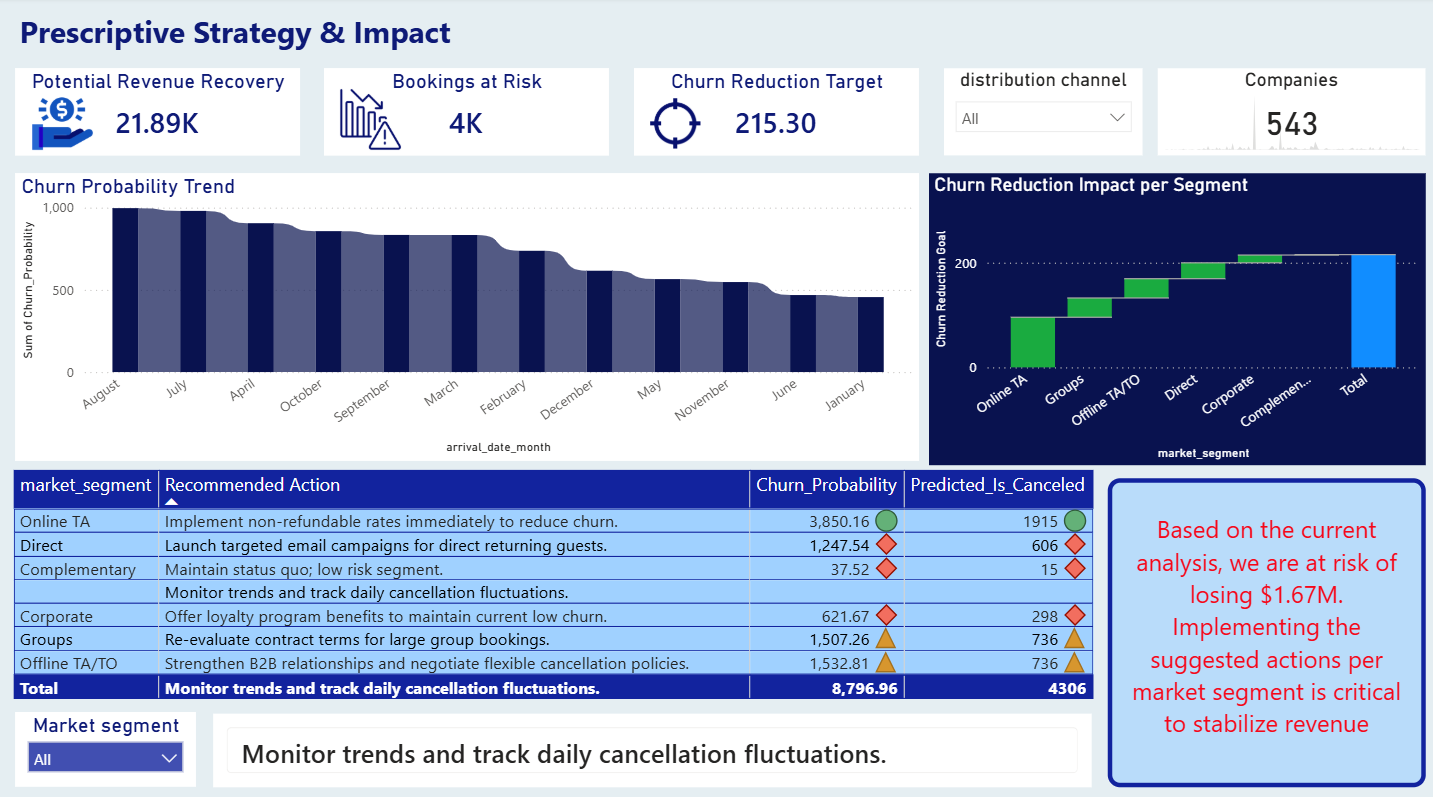

The dashboard page shown, as its layout file describes it:
{"tool":"powerbi","page":{"name":"Prescriptive Actions","canvas":[1280,720],"ordinal":2},"visuals":[{"type":"cardVisual","fields":{"Data":["cleaned_hotel_bookings.Recommended Action"]},"box":[186,633.1,792.4,75.2],"z":0},{"type":"slicer","title":"Market segment","fields":{"Values":["cleaned_hotel_bookings.market_segment"]},"box":[14,636.9,160.5,66.2],"z":1000},{"type":"textbox","box":[13.9,7.6,606,55.6],"z":2000},{"type":"cardVisual","title":"Bookings at Risk","fields":{"Data":["cleaned_hotel_bookings.Actionable Bookings"]},"box":[289.2,63.7,253.5,77.7],"z":3000},{"type":"cardVisual","title":"Churn Reduction Target","fields":{"Data":["cleaned_hotel_bookings.Churn Reduction Goal"]},"box":[565.6,63.7,253.5,77.7],"z":4000},{"type":"cardVisual","title":"Potential Revenue Recovery","fields":{"Data":["cleaned_hotel_bookings.Target Revenue Recovery"]},"box":[14,63.7,253.5,77.7],"z":5000},{"type":"tableEx","fields":{"Values":["week3_model_predictions.market_segment","cleaned_hotel_bookings.Recommended Action","Sum(week3_model_predictions.Churn_Probability)","Sum(week3_model_predictions.Predicted_Is_Canceled)"]},"box":[6.4,416.6,980.9,225.5],"z":6000},{"type":"ribbonChart","title":"Churn Probability Trend","fields":{"Category":["week3_model_predictions.arrival_date_month"],"Y":["Sum(week3_model_predictions.Churn_Probability)"]},"box":[14,156.7,805.1,256.1],"z":6001},{"type":"textbox","box":[987.3,428,282.8,275.2],"z":6002},{"type":"waterfallChart","title":"Churn Reduction Impact per Segment","fields":{"Category":["week3_model_predictions.market_segment"],"Y":["cleaned_hotel_bookings.Churn Reduction Goal"]},"box":[828,156.7,442,259.9],"z":6003},{"type":"slicer","title":"distribution channel","fields":{"Values":["week3_model_predictions.distribution_channel"]},"box":[842,63.7,177.1,77.7],"z":6004},{"type":"kpi","title":"Companies","fields":{"TrendLine":["week3_model_predictions.company"],"Indicator":["Sum(week3_model_predictions.company)"]},"box":[1031.9,63.7,238.2,77.7],"z":6005},{"type":"image","box":[14,84.1,82.8,57.3],"z":6006},{"type":"image","box":[289.2,80.3,82.8,57.3],"z":6007},{"type":"image","box":[565.6,90.4,73.9,44.6],"z":6008}]}

Visuals, with their boxes in screenshot pixels (x1, y1, x2, y2), scaled from the page's 1280x720 canvas onto the 1433x797 screenshot:
cardVisual - cleaned_hotel_bookings.Recommended Action: crop(208, 701, 1095, 784)
"Market segment" slicer: crop(16, 705, 195, 778)
textbox: crop(16, 8, 694, 70)
"Bookings at Risk" cardVisual: crop(324, 71, 608, 157)
"Churn Reduction Target" cardVisual: crop(633, 71, 917, 157)
"Potential Revenue Recovery" cardVisual: crop(16, 71, 299, 157)
tableEx - week3_model_predictions.market_segment x cleaned_hotel_bookings.Recommended Action: crop(7, 461, 1105, 711)
"Churn Probability Trend" ribbonChart: crop(16, 173, 917, 457)
textbox: crop(1105, 474, 1422, 778)
"Churn Reduction Impact per Segment" waterfallChart: crop(927, 173, 1422, 461)
"distribution channel" slicer: crop(943, 71, 1141, 157)
"Companies" kpi: crop(1155, 71, 1422, 157)
image: crop(16, 93, 108, 157)
image: crop(324, 89, 416, 152)
image: crop(633, 100, 716, 149)
